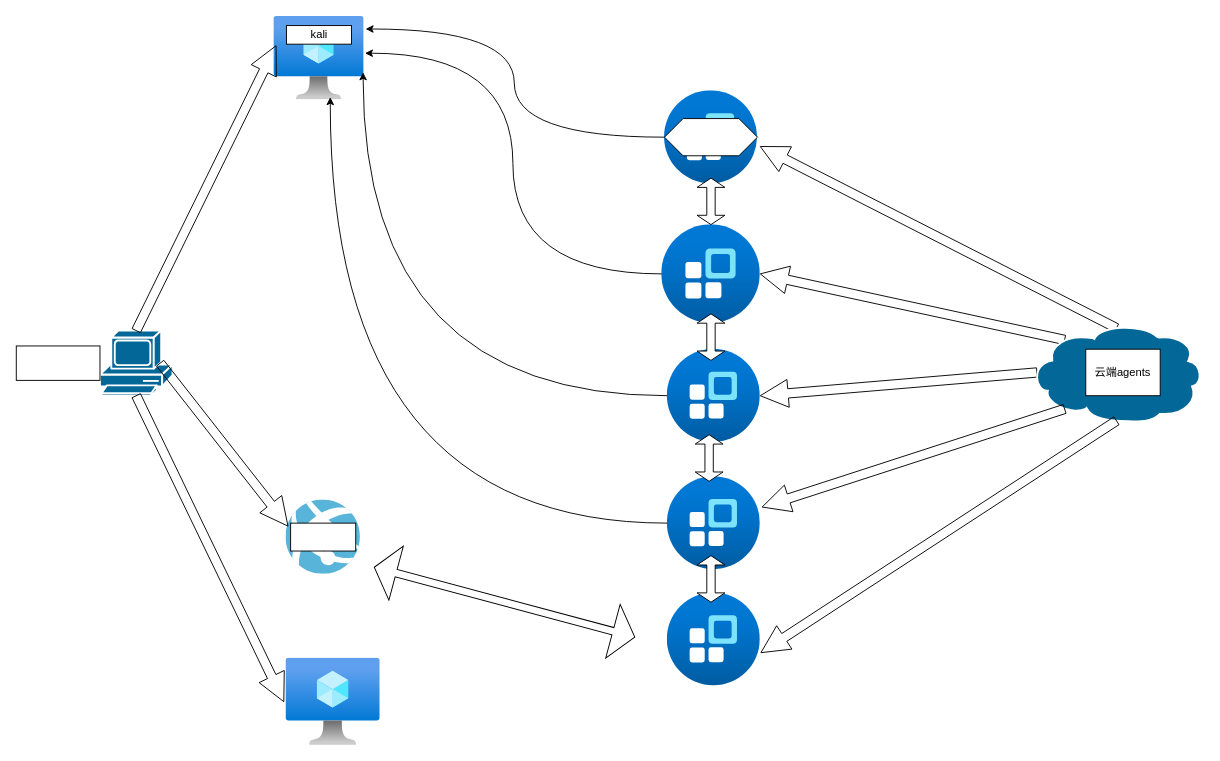
Image size: 1220x761. Some labels were removed from this diagram. Each missing label, with the centre of its shape:
windows主机: point 57,362
飞书: point 323,536
